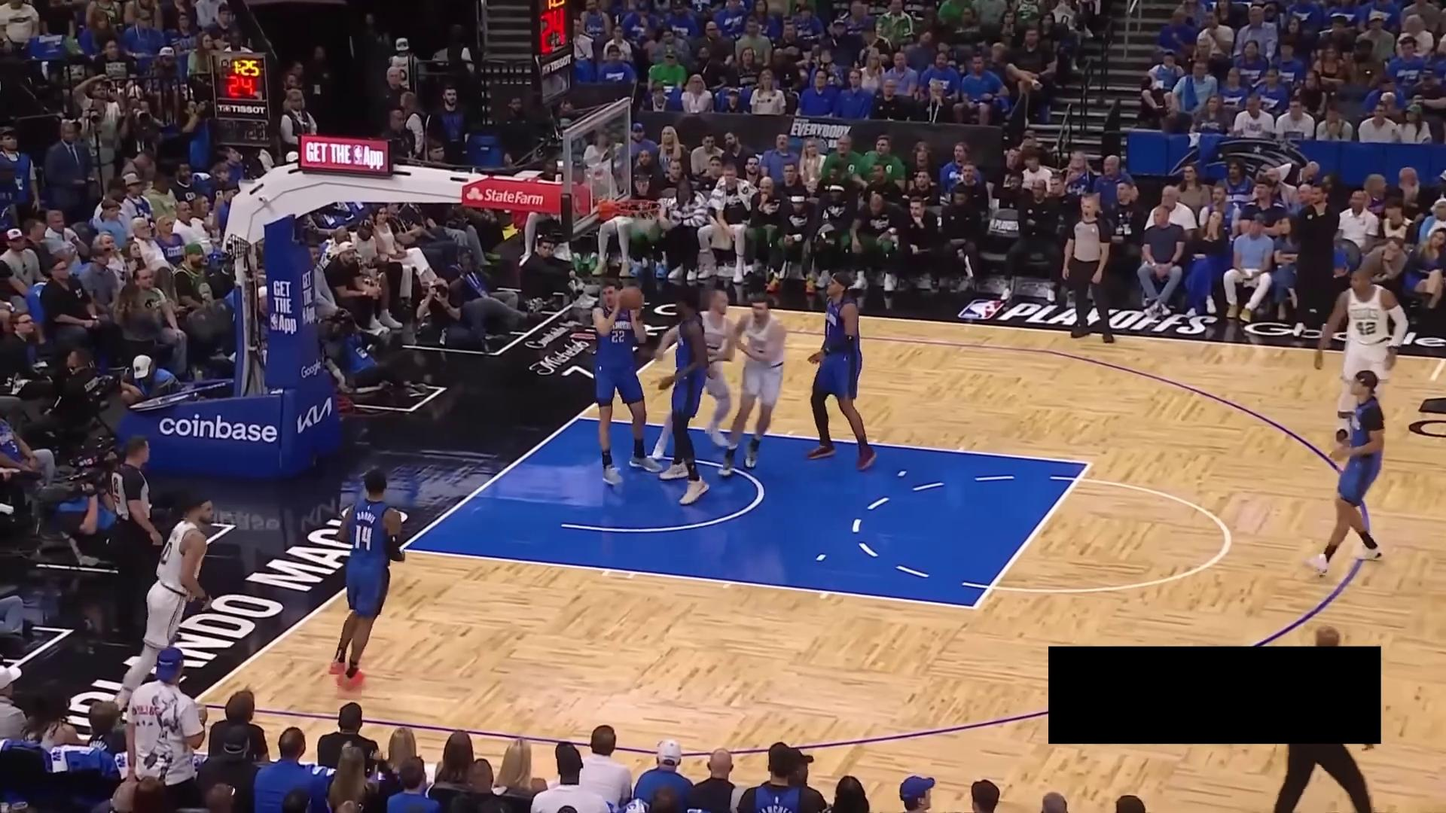ball: (619, 285, 643, 310)
number: (353, 523, 375, 552), (1355, 320, 1377, 336), (612, 329, 625, 344)
player: (108, 490, 217, 711), (1302, 368, 1396, 576), (328, 461, 407, 699), (1313, 257, 1409, 443), (651, 287, 737, 461), (807, 270, 877, 471), (650, 286, 710, 505), (717, 293, 788, 477)
player-in-possession: (592, 279, 664, 486)
referee: (1270, 612, 1375, 813), (102, 431, 163, 660), (1061, 193, 1117, 346)
rim: (613, 197, 666, 216)
